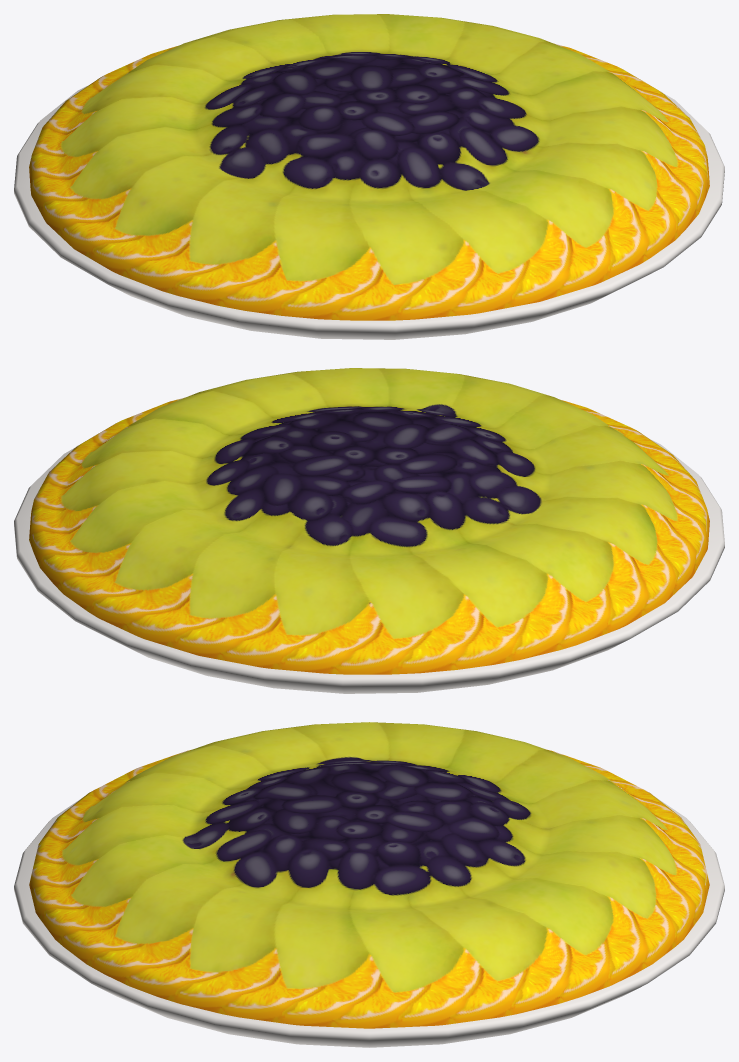
The model's file is BuffetFruits01_4.FBX.
3 views of the same model, one above another, from view 1: azimuth 30°, elevation 25°; view 2: azimuth 150°, elevation 25°; view 3: azimuth 270°, elevation 25° (orthographic).
Parts seen in each view (by area): view 1: BuffetFruits01_4; view 2: BuffetFruits01_4; view 3: BuffetFruits01_4.
Part boxes in pixels (x1,y1,x2,y2): BuffetFruits01_4: (14,14,724,339); BuffetFruits01_4: (14,368,724,693); BuffetFruits01_4: (14,722,724,1047).
Size of what is drawn, in the model's own units: 0.5988 by 0.0944 by 0.5988.
